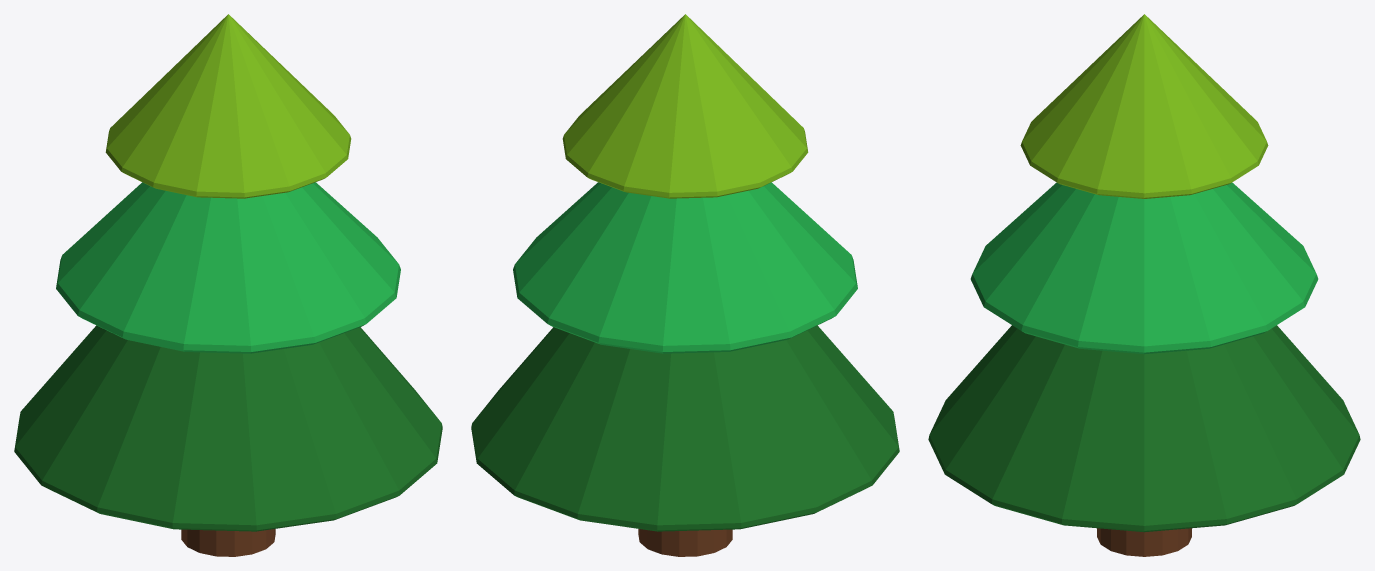
Rendered from my_little_tree.obj.
3 renders of one model, left to right at view 1: azimuth 30°, elevation 25°; view 2: azimuth 150°, elevation 25°; view 3: azimuth 270°, elevation 25°, orthographic.
Parts seen in each view (by area): view 1: Tree_Cylinder.002; view 2: Tree_Cylinder.002; view 3: Tree_Cylinder.002.
Part boxes in pixels (<box>): Tree_Cylinder.002: <box>14,14,442,556</box>; Tree_Cylinder.002: <box>471,14,899,556</box>; Tree_Cylinder.002: <box>928,14,1360,556</box>.
Size of the model in its own units: 4.64 by 6.19 by 4.64.
2 materials, 2 textured.
